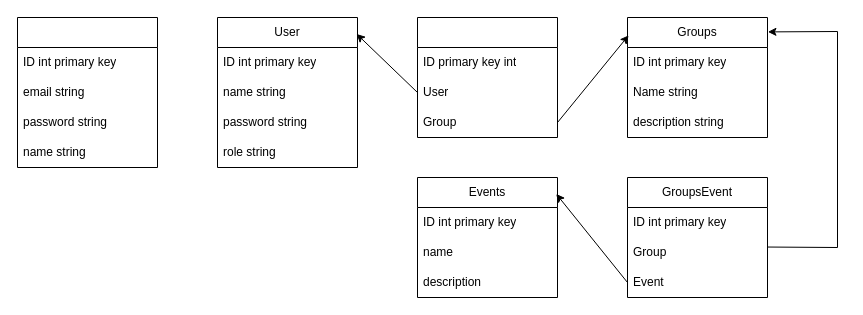
The diagram is 863 pixels wide and 315 high, and some of its shapes have lost their labels. The box of each missing label's shape, as (x1, y1, x2, y2) in pixels:
GroupMembers: (416, 16, 558, 138)
UserAdmin: (16, 16, 158, 168)
